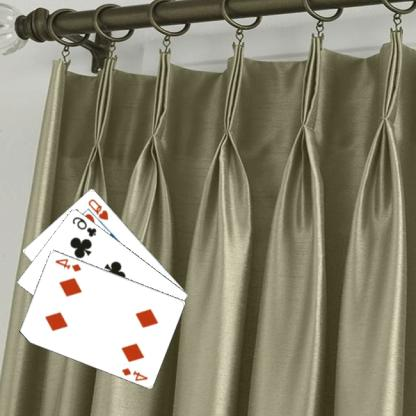4D: (54, 255, 84, 273), (120, 365, 151, 382)
6C: (71, 214, 100, 238)
QH: (87, 196, 112, 221)
